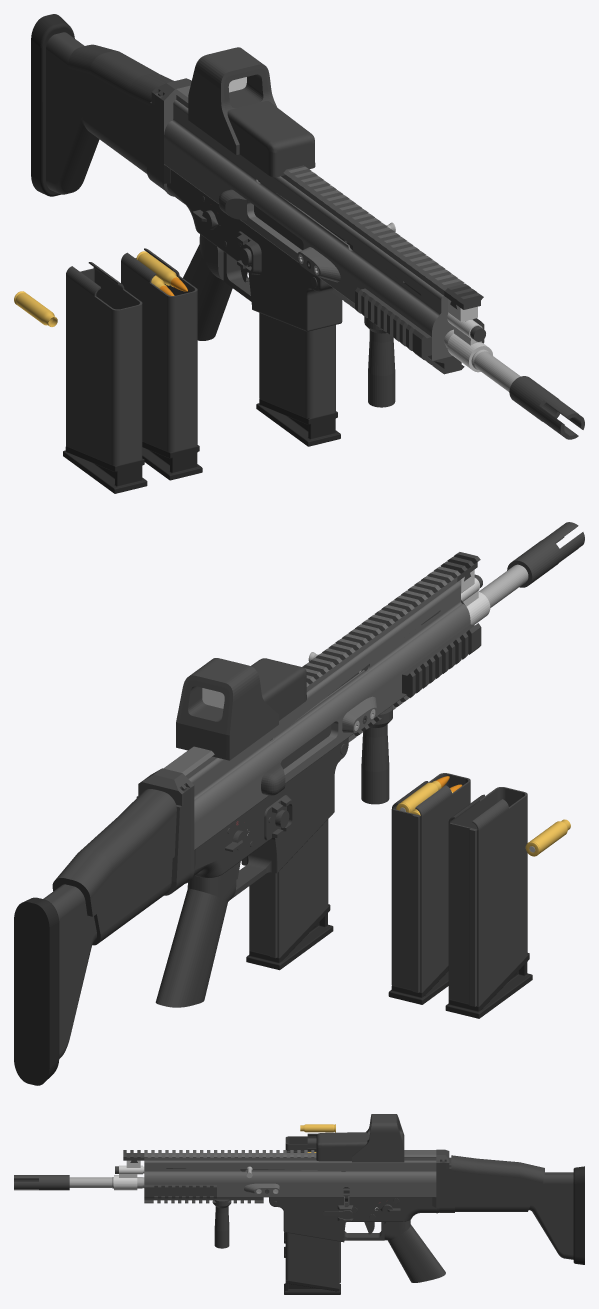
File: Scar_H_Props.fbx
3 views of the same model, one above another, from view 1: azimuth 30°, elevation 25°; view 2: azimuth 150°, elevation 25°; view 3: azimuth 270°, elevation 25° (orthographic). The views are drawn at different scales.
Visible parts, largest first — view 1: Scar 17 Prop, Empty Magazine, Full magazine, Casing; view 2: Scar 17 Prop, Empty Magazine, Full magazine, Casing; view 3: Scar 17 Prop, Empty Magazine, Casing.
Part boxes in pixels (x1,y1,x2,y2): Scar 17 Prop: (31,14,584,446); Empty Magazine: (63,262,147,493); Full magazine: (121,248,202,480); Casing: (14,291,57,326); Scar 17 Prop: (14,522,584,1085); Empty Magazine: (445,787,532,1018); Full magazine: (388,773,470,1004); Casing: (525,819,570,856); Scar 17 Prop: (14,1114,584,1294); Empty Magazine: (284,1133,317,1243); Casing: (300,1124,335,1132).
Size of the model in its own units: 27.16 by 82.2 by 27.34.
